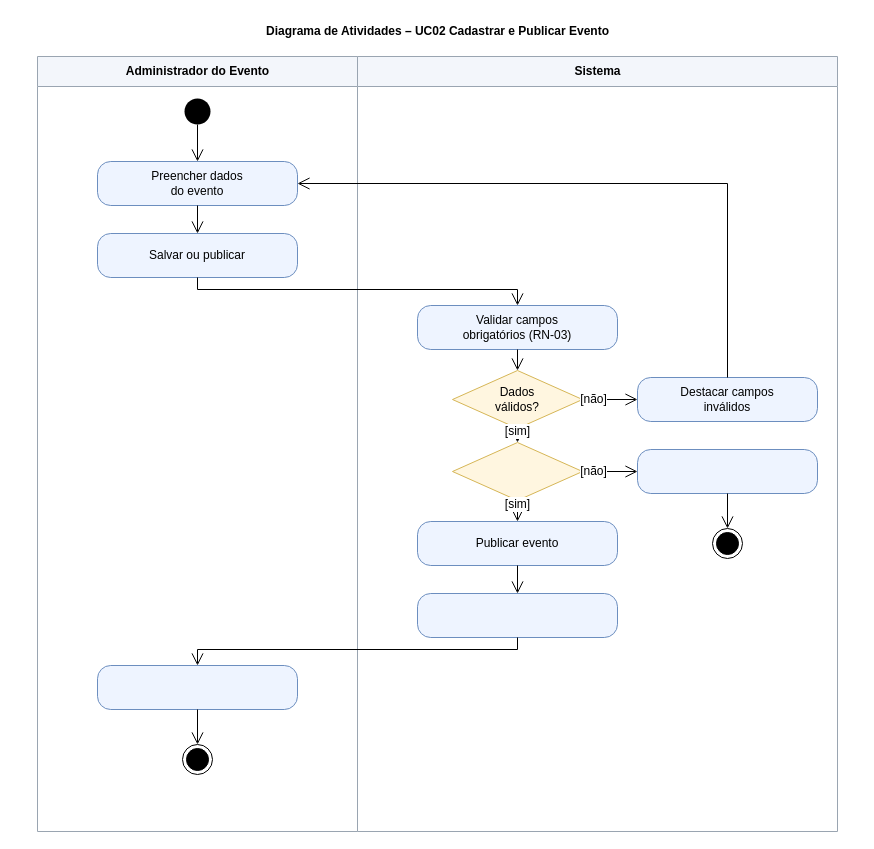
Image size: 874x849. Some labels were removed from this diagram. Each missing label, with the box of its shape:
Divulgar evento publicado: (96, 664, 298, 710)
Notificar interessados (RN-10): (416, 592, 618, 638)
Publicar agora?: (452, 442, 582, 500)
Salvar como rascunho: (636, 448, 818, 494)
